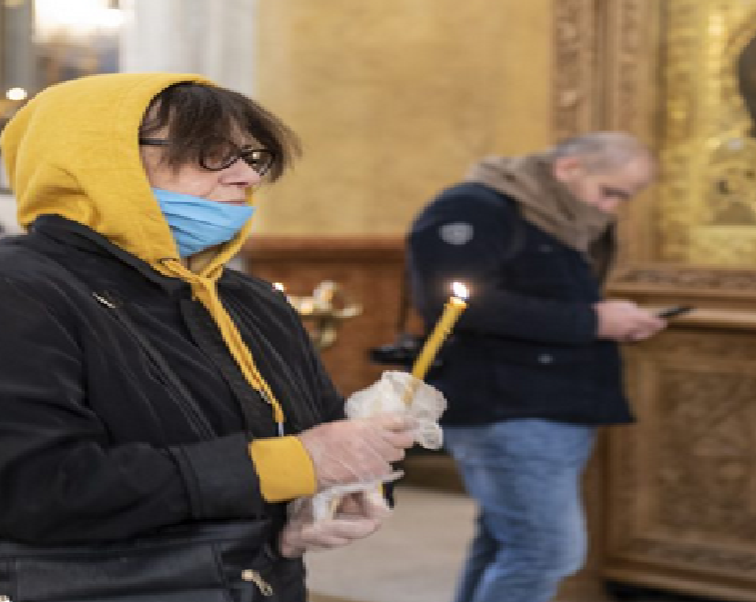mask_weared_incorrect: (7, 72, 280, 257)
